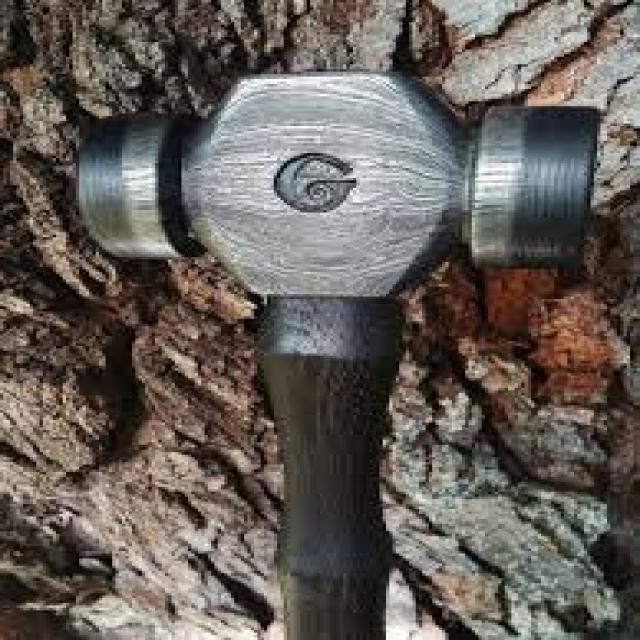hammer: (71, 66, 608, 640)
